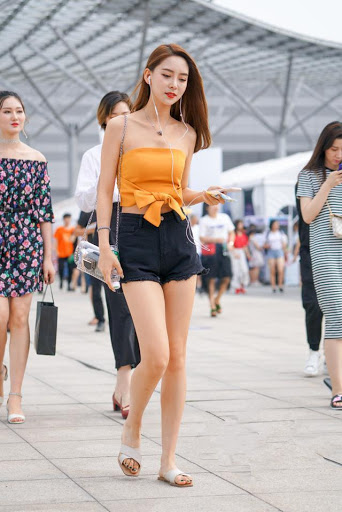people: (97, 46, 224, 487), (78, 92, 143, 417), (1, 91, 56, 424), (296, 122, 342, 406), (294, 154, 325, 377), (201, 195, 228, 317), (266, 220, 289, 293), (230, 219, 249, 293), (69, 214, 86, 293), (245, 220, 260, 293), (58, 214, 70, 289)
